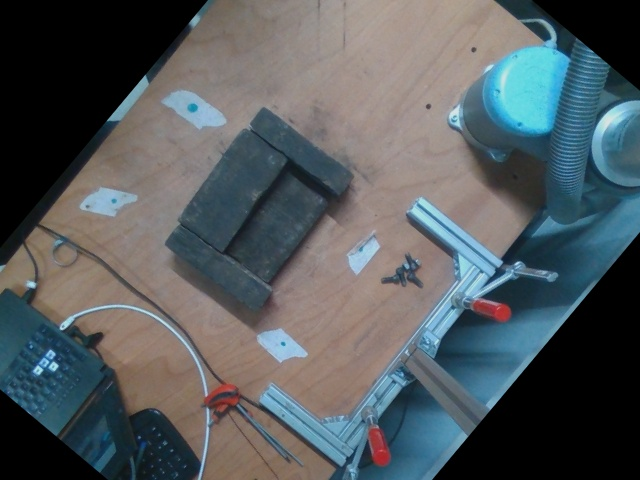brick: (178, 130, 284, 247), (226, 170, 326, 278)
brick-side: (166, 225, 269, 308), (250, 108, 351, 188)
